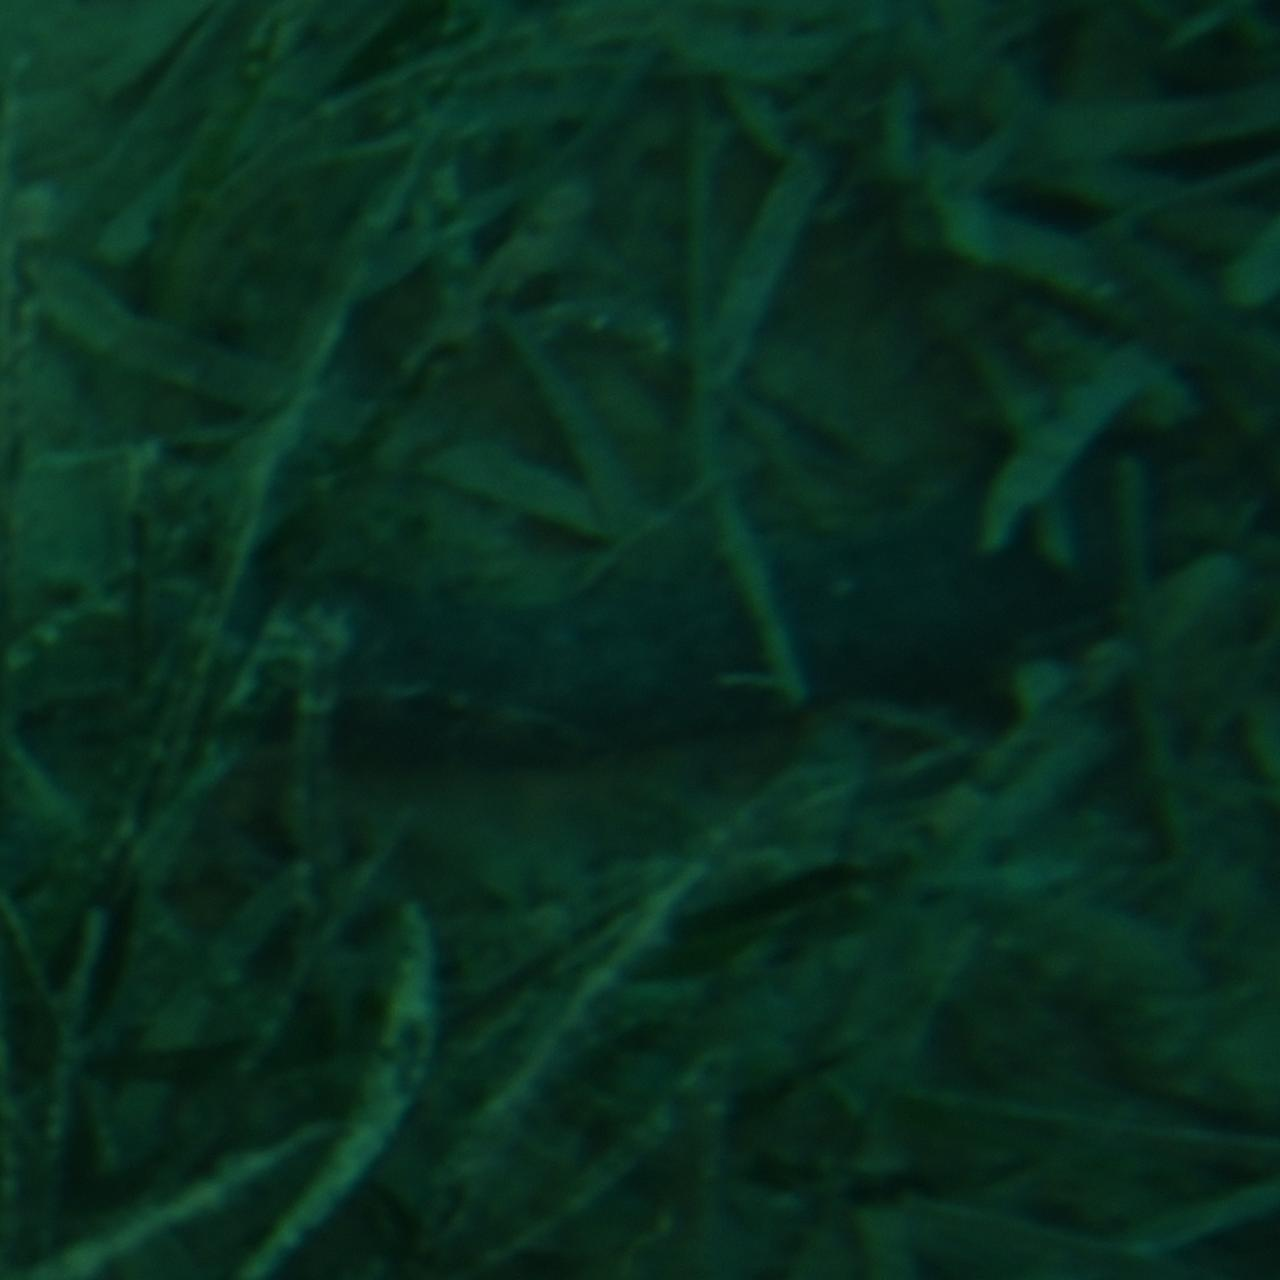Holothuria tubulosa: (154, 496, 1126, 784)
